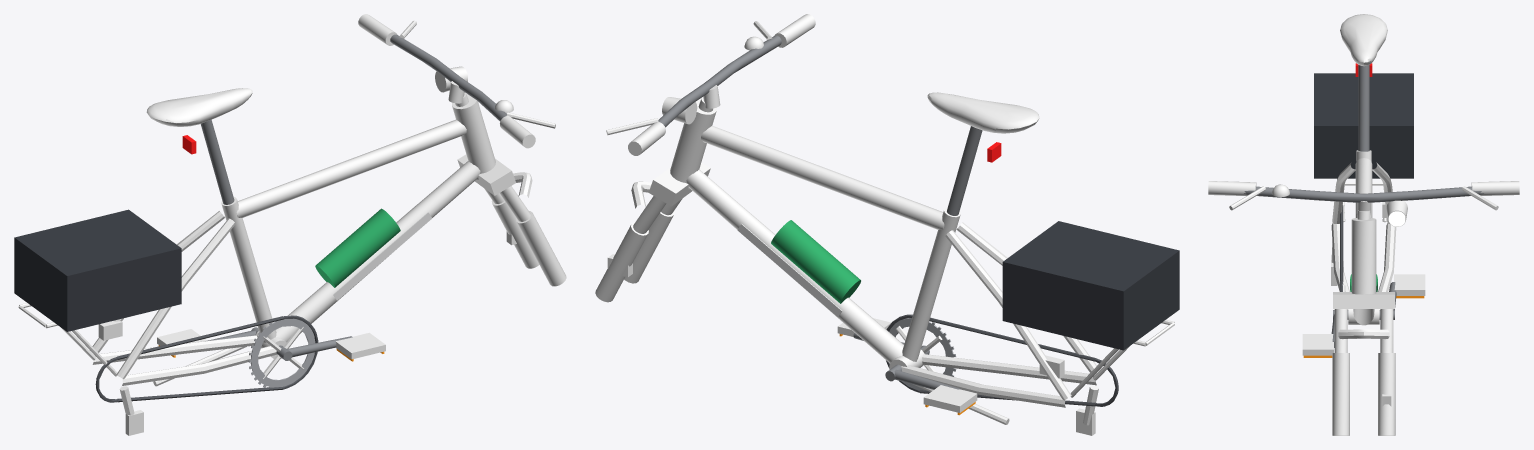
Rendered from body-mtb-lod.glb.
The picture shows the model from 3 angles, left to right: view 1: azimuth 30°, elevation 25°; view 2: azimuth 150°, elevation 25°; view 3: azimuth 270°, elevation 25°; orthographic projection. The views are drawn at different scales.
Parts seen in each view (by area): view 1: part_1, part_0; view 2: part_1, part_0; view 3: part_1, part_0.
Boxes of the visible parts, left/top/right/bottom form: part_1: left=89, top=14, right=566, bottom=435; part_0: left=14, top=209, right=181, bottom=376; part_1: left=595, top=14, right=1118, bottom=435; part_0: left=1002, top=221, right=1179, bottom=397; part_1: left=1208, top=14, right=1519, bottom=435; part_0: left=1314, top=73, right=1413, bottom=222.
Size of the model in its own units: 1.37 by 0.7586 by 0.7498.
